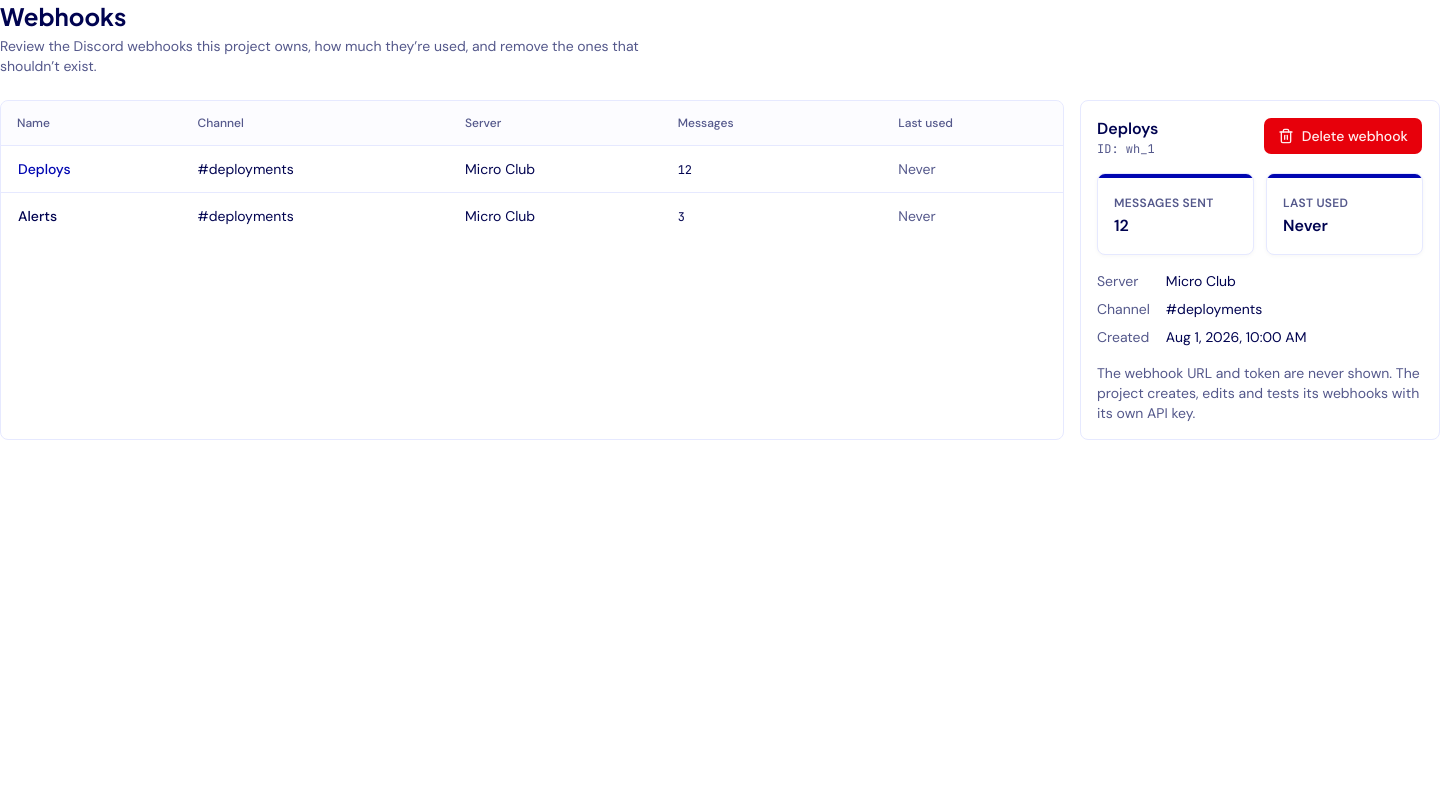
Test: Webhooks page › removes a deleted webhook from the list
Expected: the heading "Deploys" is shown, x1=1097 y1=117 x2=1158 y2=141
Click the button "Delete webhook".
click(1343, 136)  # box x1=1263 y1=117 x2=1423 y2=155
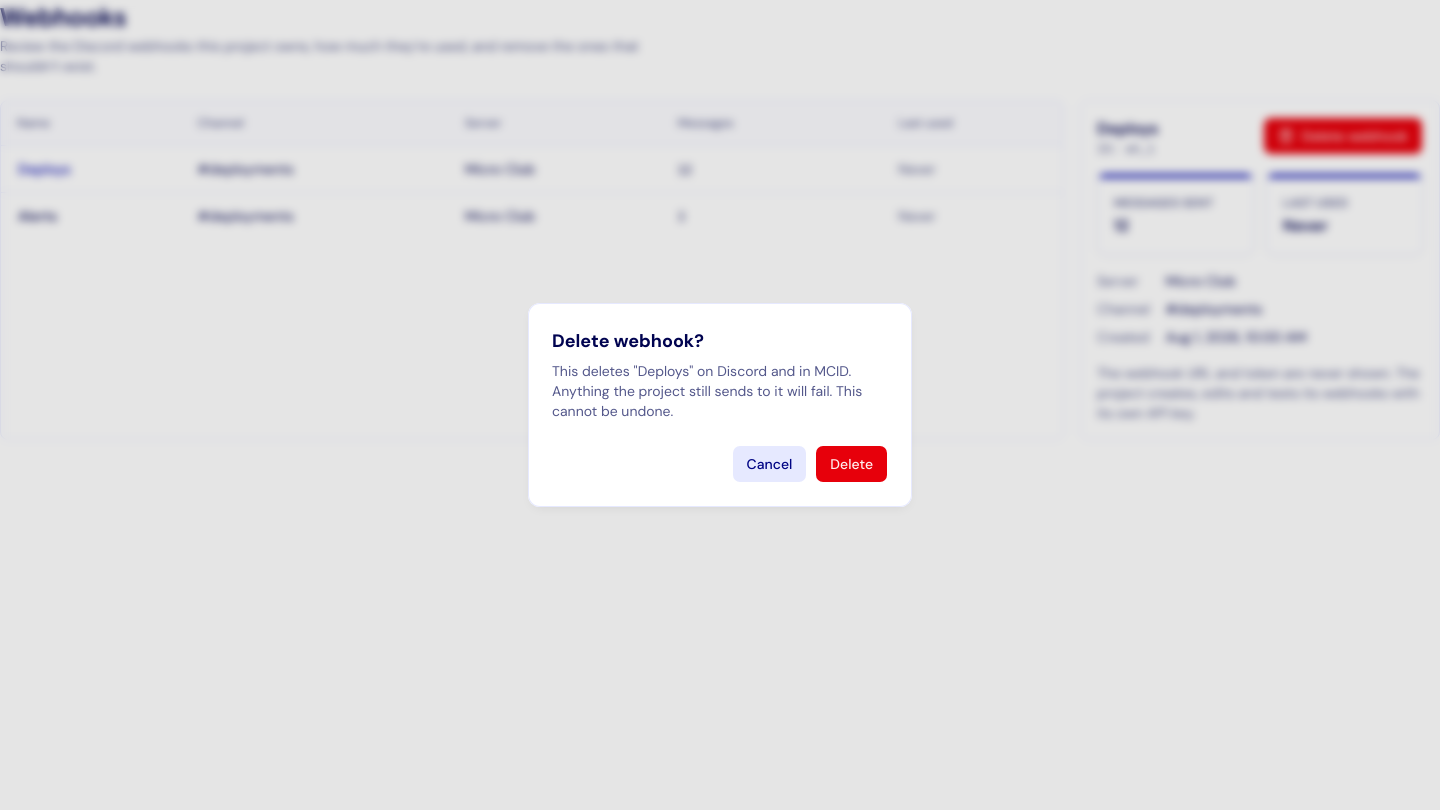
Now the dialog is shown, box x1=528 y1=303 x2=912 y2=507
Click the button "Delete".
click(852, 464)  # box x1=815 y1=445 x2=888 y2=483
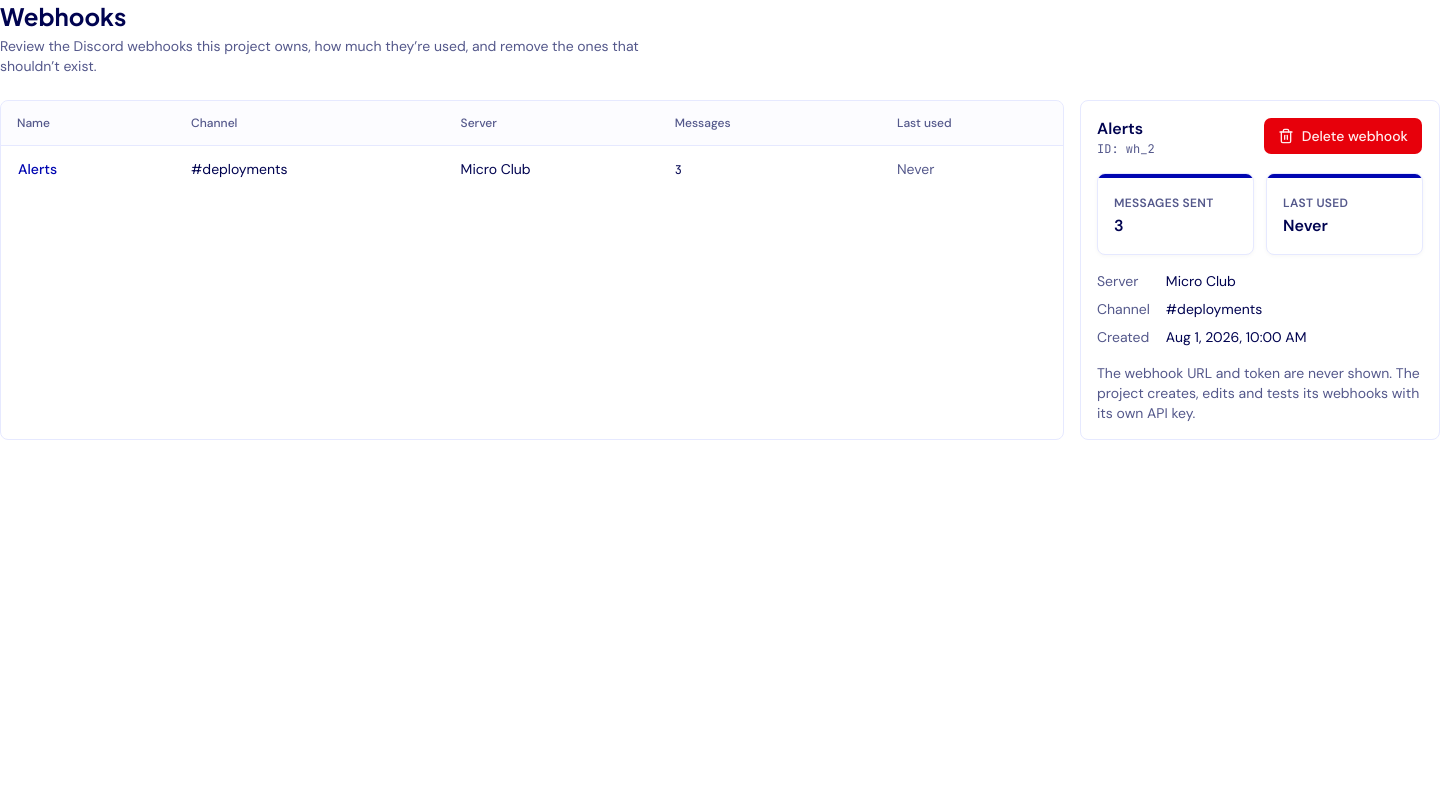
Now the button "Deploys" is gone
Now the heading "Alerts" is shown, box x1=1097 y1=118 x2=1143 y2=139
